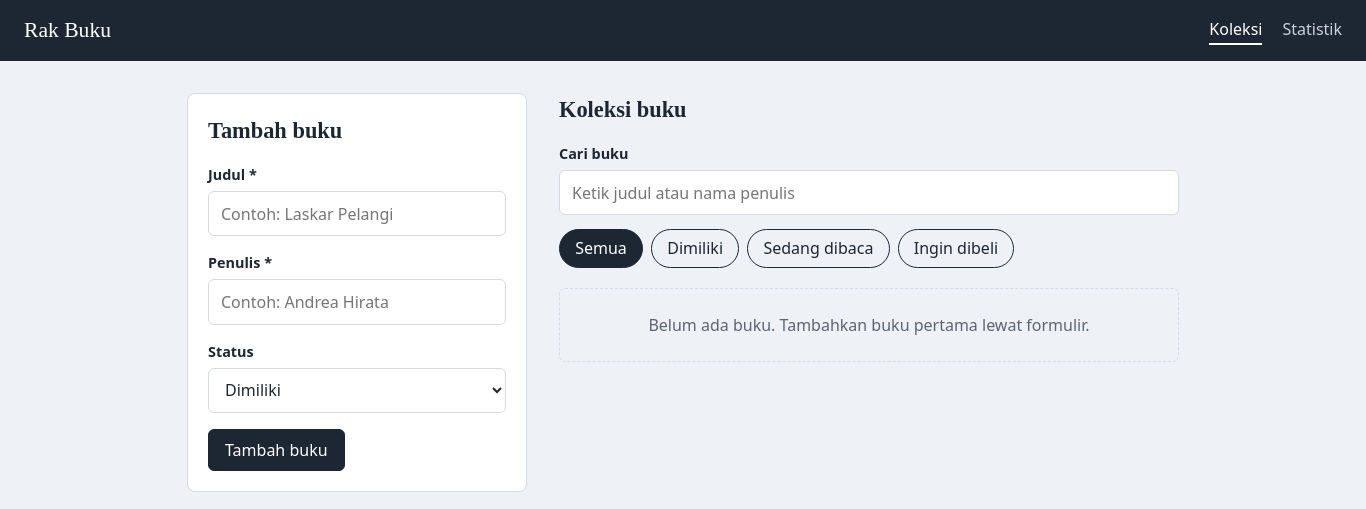
it: Aplikasi Rak Buku (integrasi) › menghapus buku
This screenshot has width=1366, height=509.
Type "Buku Hapus" into the field labelled "Judul *" at (357, 214), box [208,191,506,236]
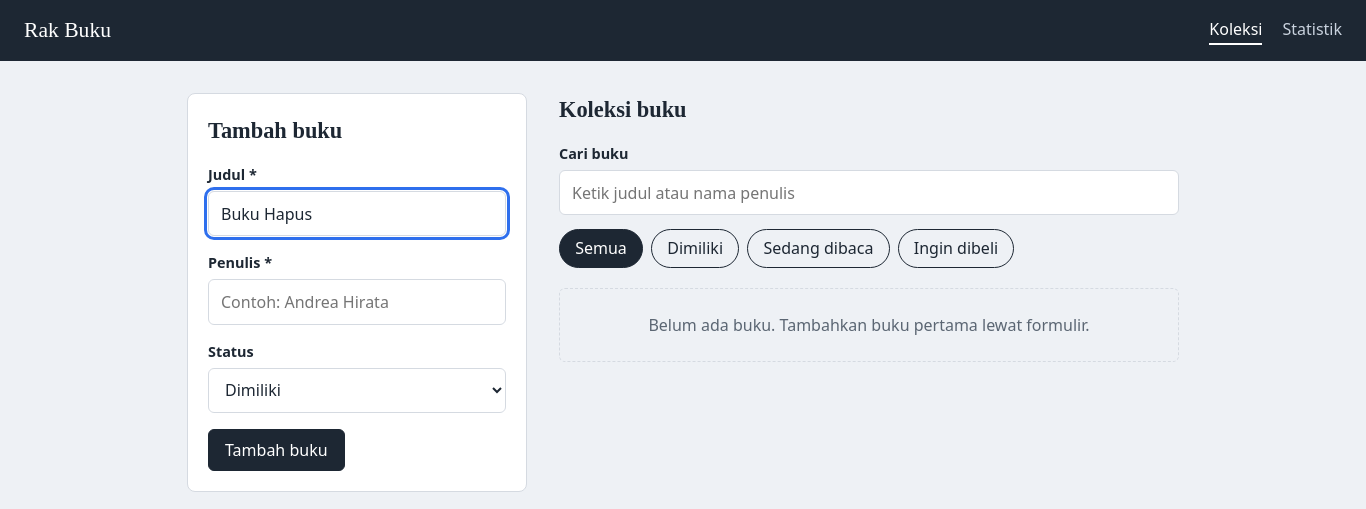
Type "Penulis B" into the field labelled "Penulis *" at (357, 302), box [208,279,506,325]
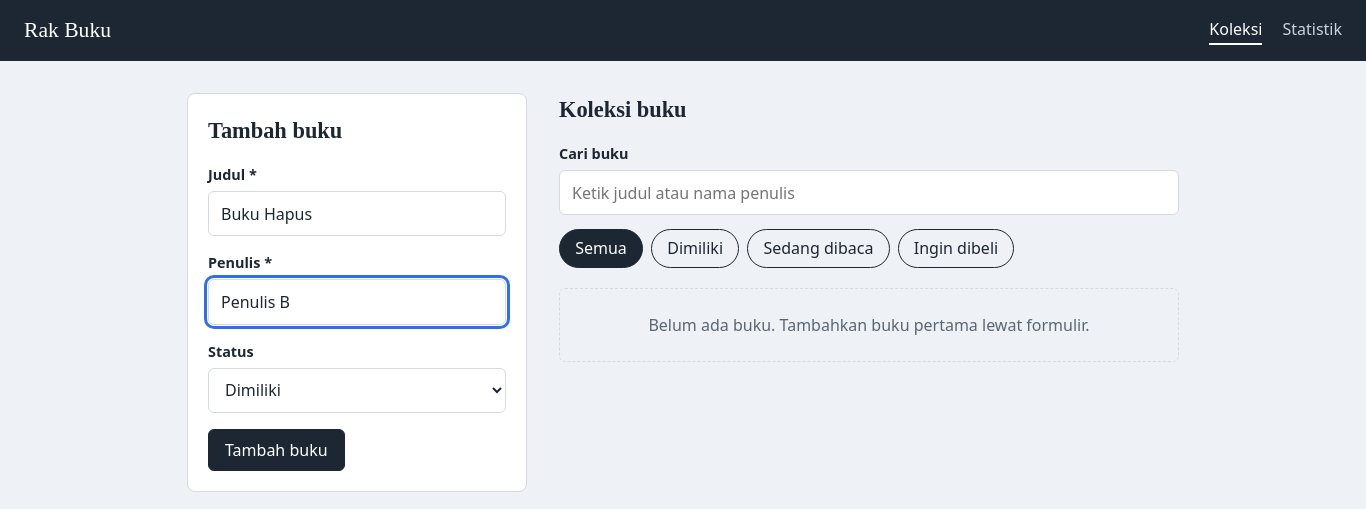
Select "Dimiliki" in the dropdown labelled "Status" at (357, 390), box [208,368,506,413]
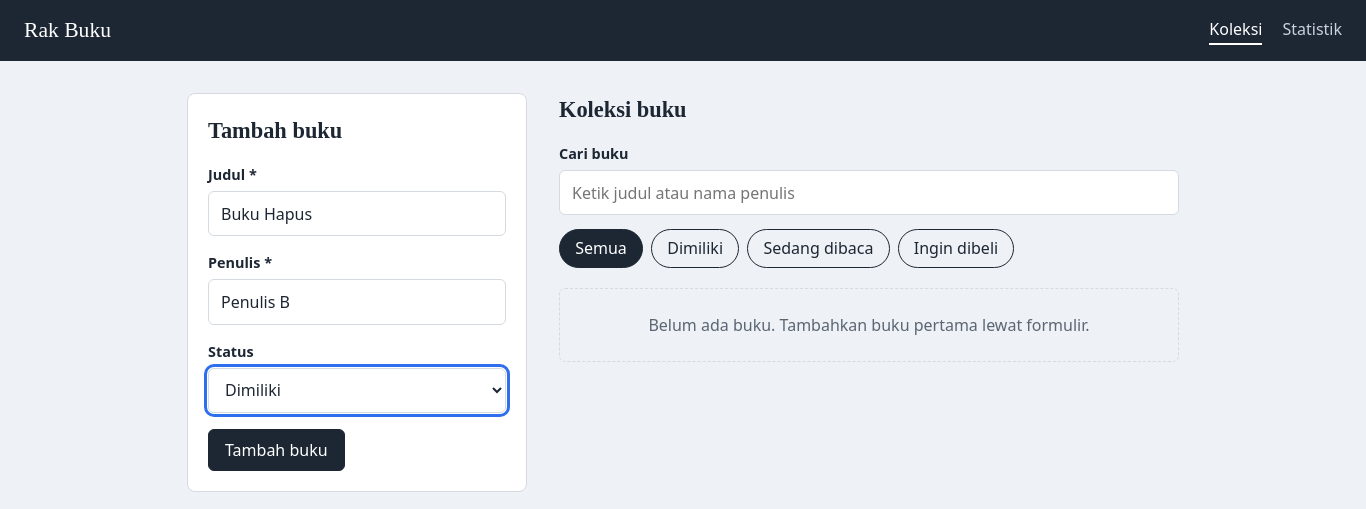
Click the button "Tambah buku" at (276, 450), box [208,429,345,471]
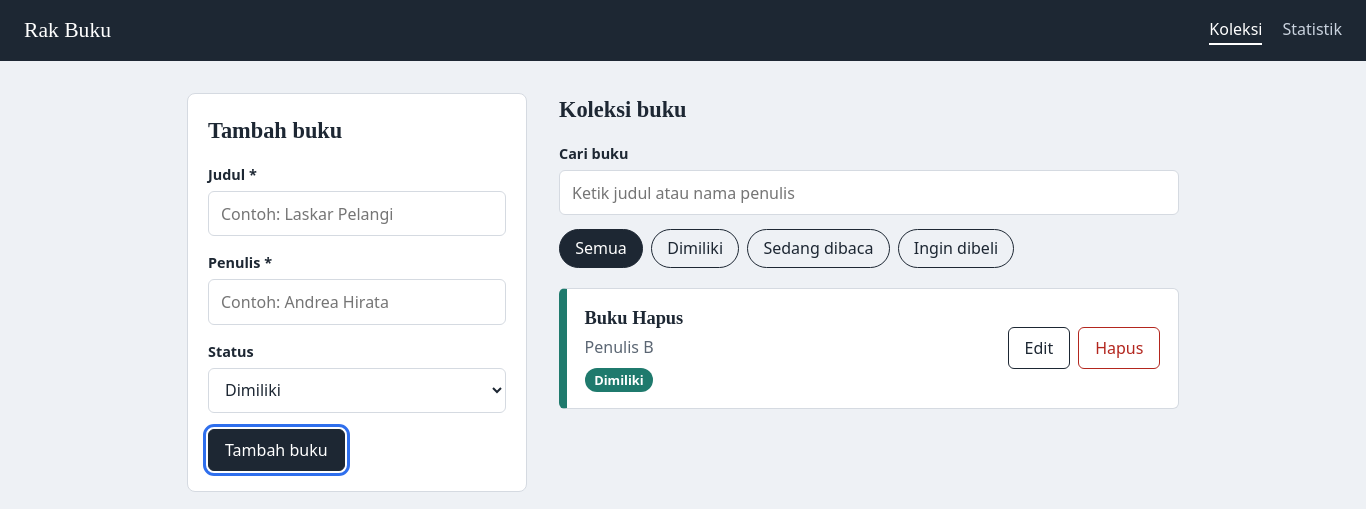
Click the button with aria-label "Hapus Buku Hapus" at (1119, 348), box [1078,327,1160,369]
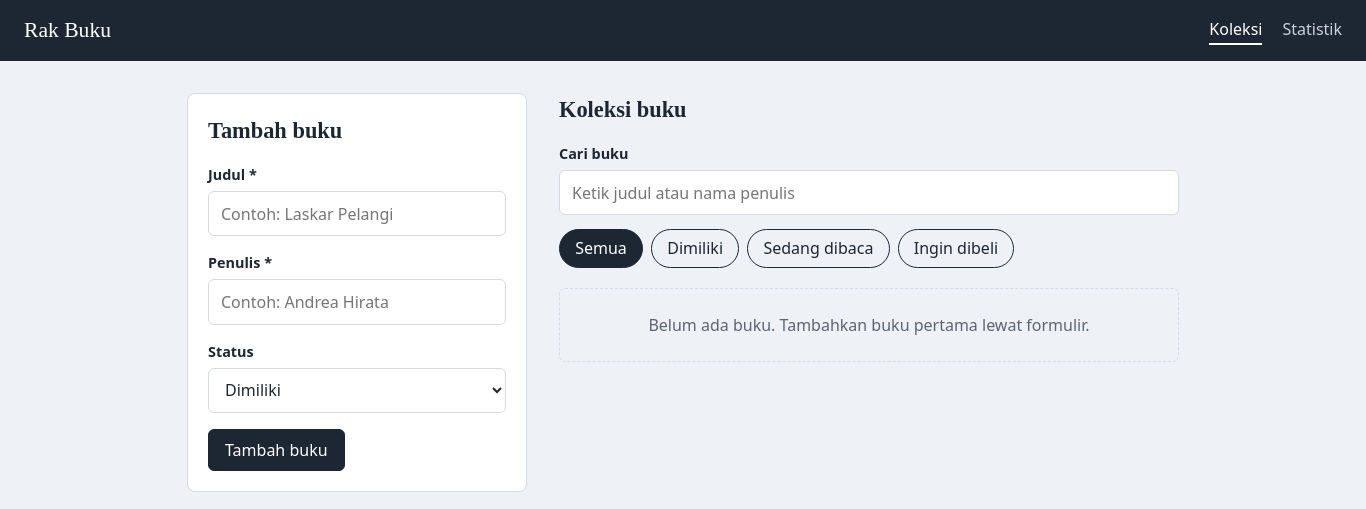
Now the heading "Buku Hapus" is gone
Now the text "Belum ada buku. Tambahkan buku pertama lewat formulir." is shown, box [559,288,1179,362]
